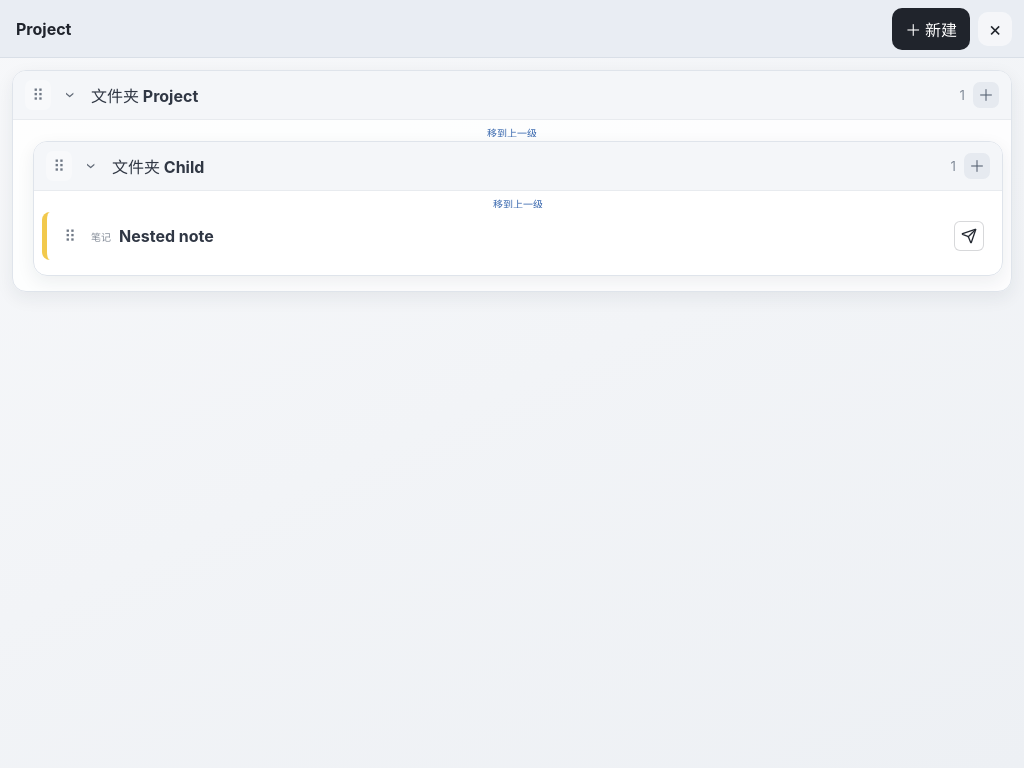
Test: DetachedFolder › keeps delivery feedback visible while editing a nested note
The image size is (1024, 768).
Click the text "Nested note".
click(166, 236)  # box 119,226 -> 214,246
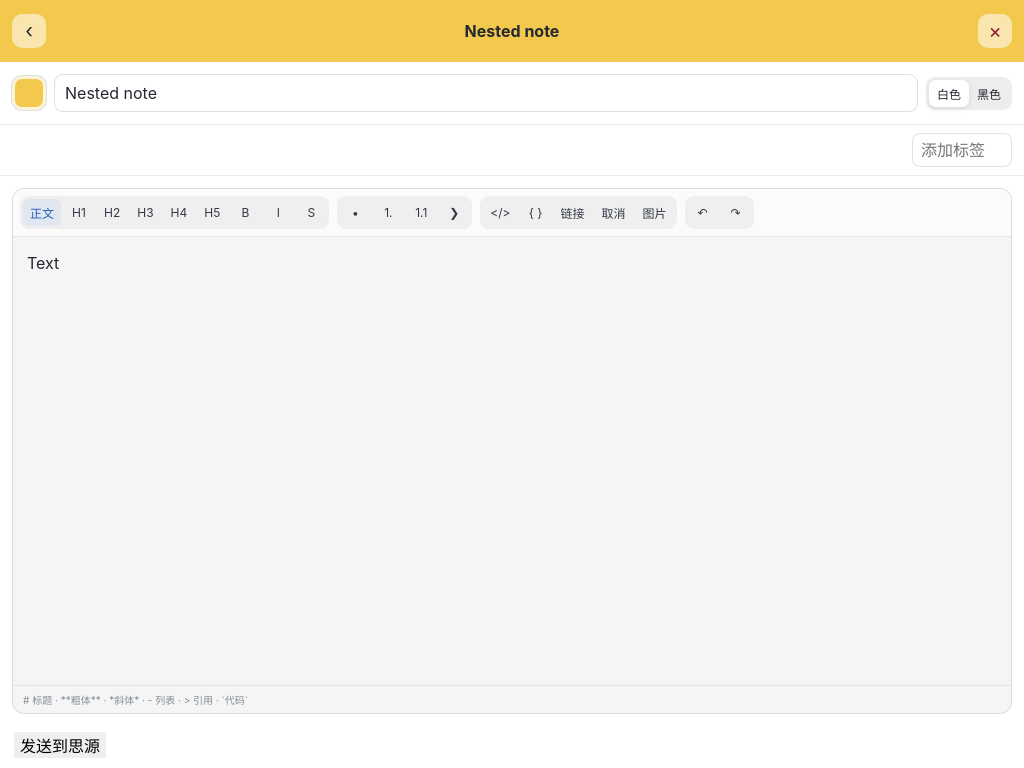
Click the button "发送到思源".
click(60, 745)  # box 14,732 -> 106,758
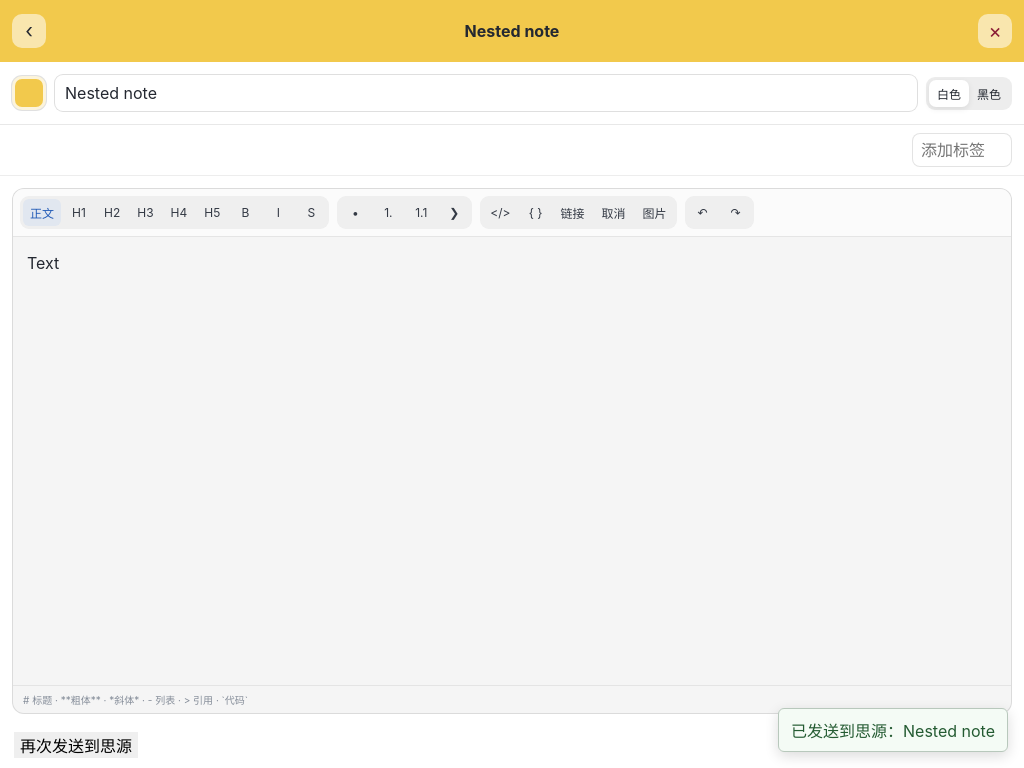
expect the message named "思源发送结果" reads "已发送到思源：Nested note": met, box 791,721 -> 995,741
